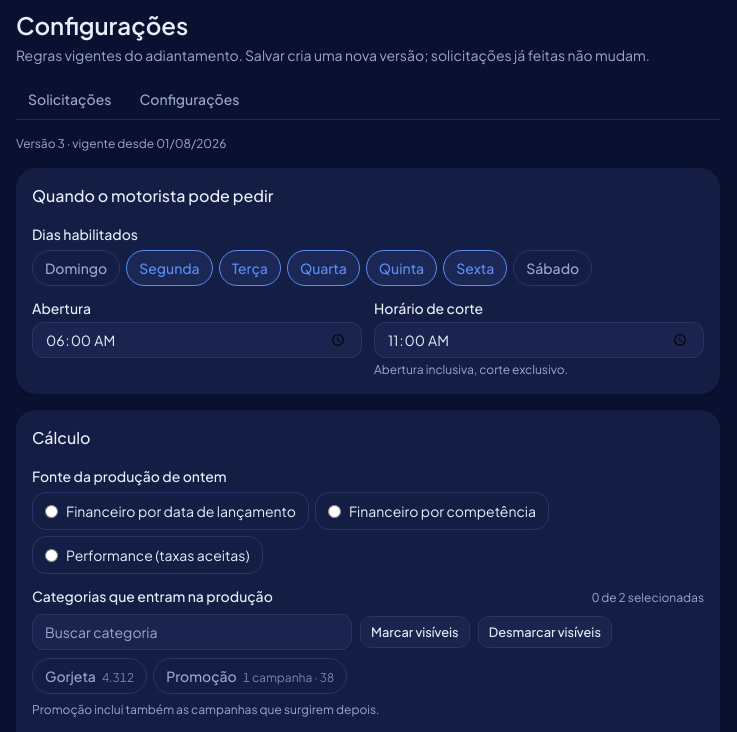
Test case: ConfiguracoesAdiantamentoPage › 0087: busca sem acento + "Marcar visíveis" marca só o que a busca achou
The image size is (737, 732).
Expected: the button "Gorjeta4.312" is shown, left=32, top=658, right=147, bottom=694
A busca e os botões são os do bloco da produção (o 1º da tela).
In the search field labelled "Buscar categoria": {"x": 192, "y": 632} left=32, top=614, right=352, bottom=650, type "promocao"
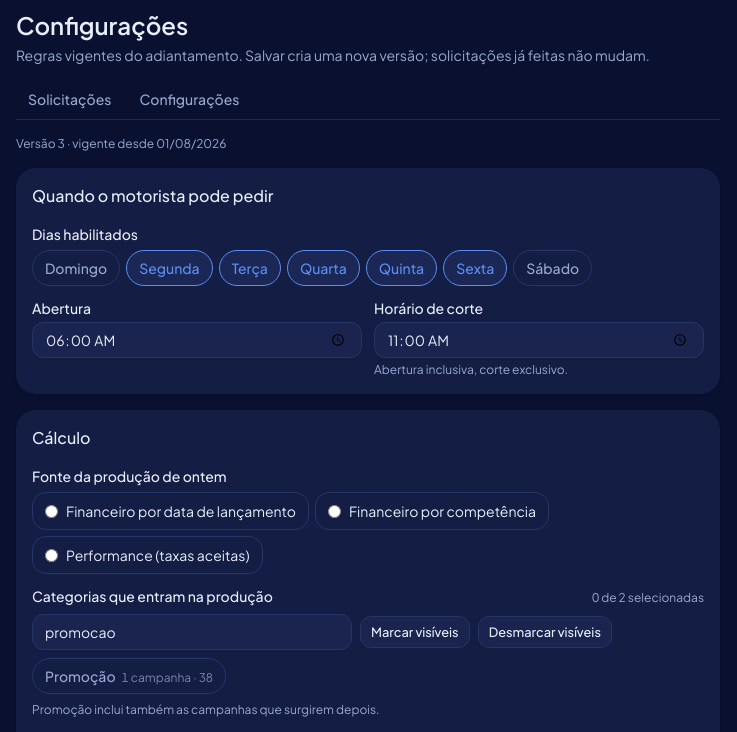
Expected: the button "Gorjeta" is gone
Click the button "Marcar visíveis": {"x": 415, "y": 632} left=360, top=616, right=470, bottom=648
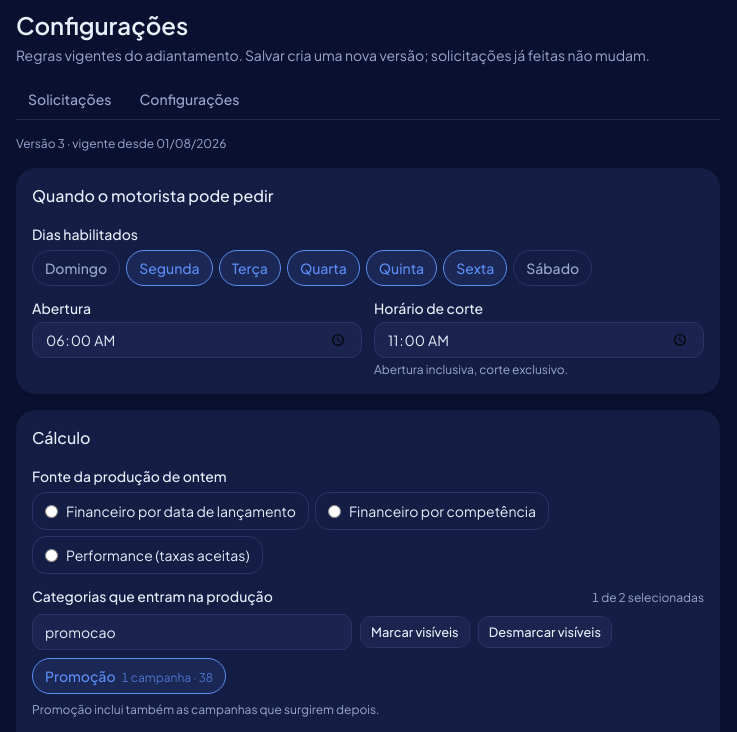
Expected: the text "1 de 2 selecionadas" is shown, left=592, top=590, right=704, bottom=606
